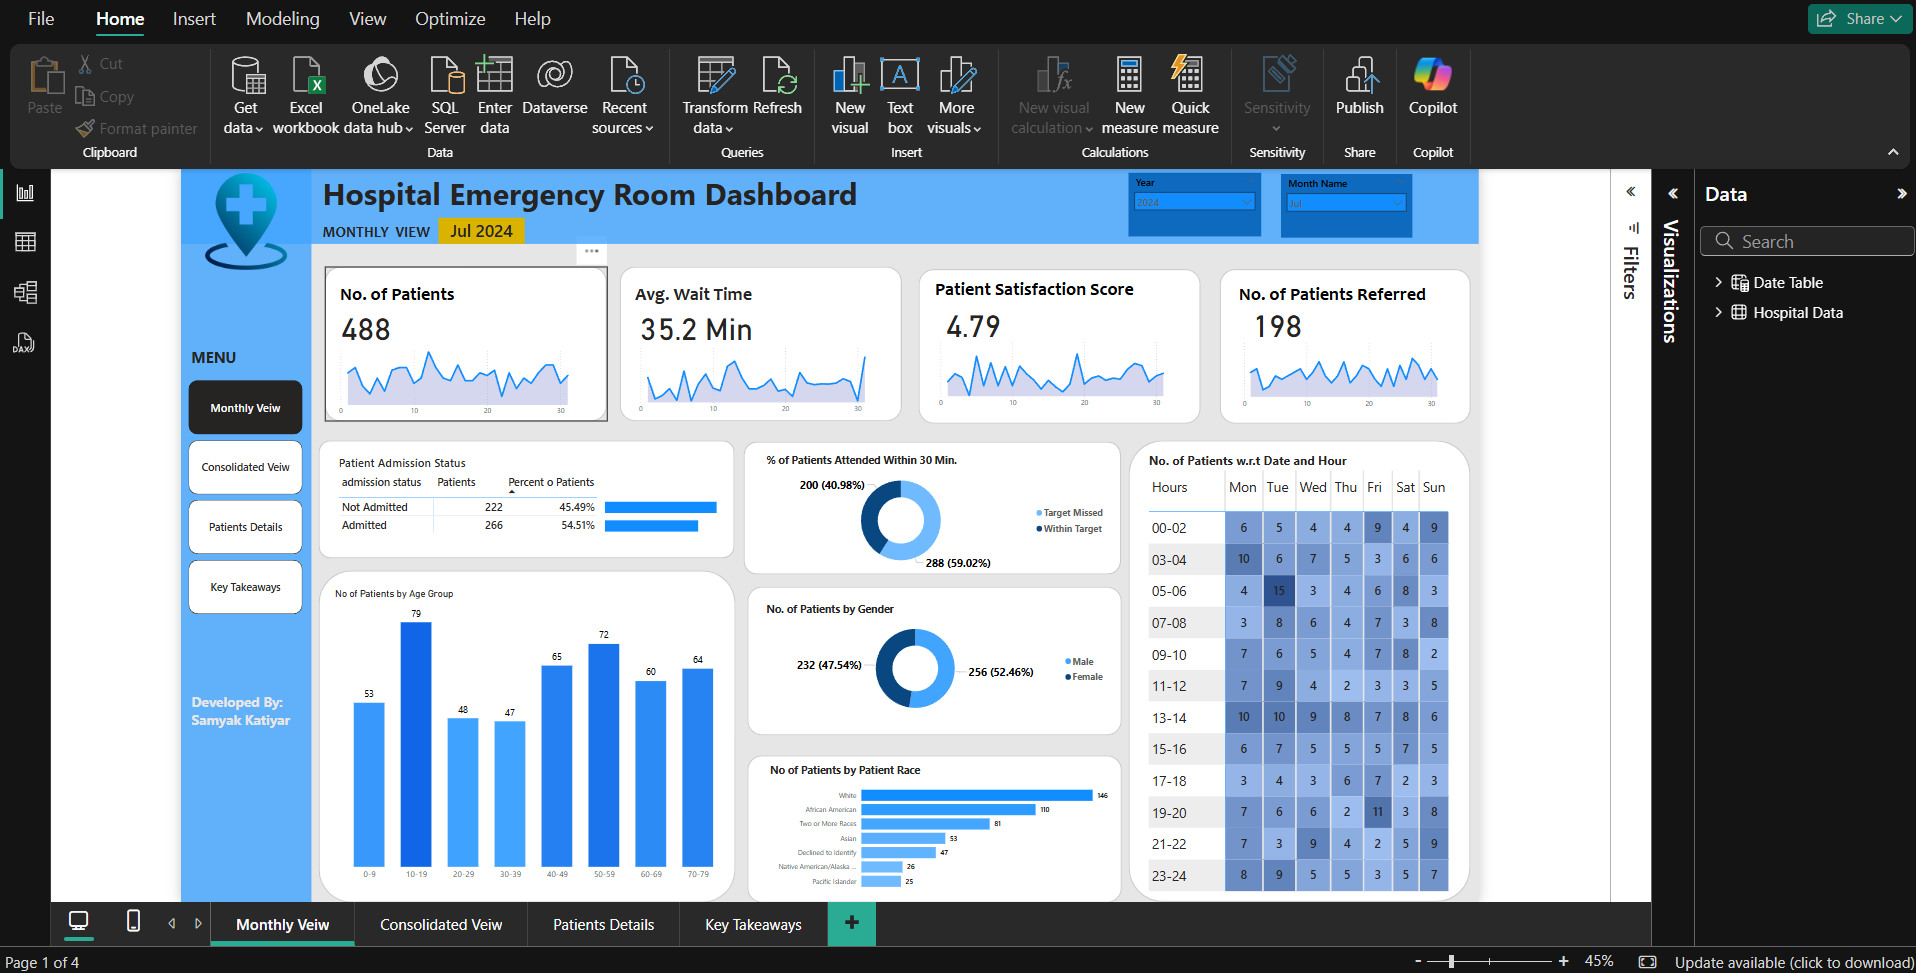

This screenshot's page, from the dashboard's own definition file:
{"tool":"powerbi","page":{"name":"Monthly Veiw","canvas":[2300,1300],"ordinal":0},"visuals":[{"type":"shape","box":[0,0,231.4,1300],"z":0},{"type":"shape","box":[777.6,172.8,500.7,274.7],"z":1000},{"type":"shape","box":[254.8,172.8,500.7,274.7],"z":2000},{"type":"shape","box":[0,0,2300,132.9],"z":3000},{"type":"textbox","box":[245.9,2.2,1001.4,88.6],"z":4000},{"type":"card","fields":{"Values":["Hospital Data.No of Patients"]},"box":[254.8,239.3,146.2,77.5],"z":5000},{"type":"textbox","box":[245.8,91.7,233.3,52.1],"z":6000},{"type":"slicer","fields":{"Values":["Date Table.Year"]},"box":[1679.3,6.6,234.8,113],"z":7000},{"type":"slicer","fields":{"Values":["Date Table.Month Name"]},"box":[1949.6,8.9,232.6,113],"z":8000},{"type":"textbox","box":[276.9,197.2,228.2,53.2],"z":9000},{"type":"areaChart","fields":{"Category":["Hospital Data.Patient Admission Date.Variation.Date Hierarchy.Day"],"Y":["Hospital Data.No of Patients"]},"box":[268.1,310.2,485.2,137.4],"z":10000},{"type":"card","fields":{"Values":["Min(Date Table.month_name&year)"]},"box":[456.4,86.4,152.9,46.5],"z":11000},{"type":"card","fields":{"Values":["Hospital Data.avg_wait_time"]},"box":[799.8,239.3,228.2,77.5],"z":12000},{"type":"textbox","box":[799.8,197.2,228.2,53.2],"z":13000},{"type":"areaChart","fields":{"Category":["Hospital Data.Patient Admission Date.Variation.Date Hierarchy.Day"],"Y":["Avg(Hospital Data.Patient Waittime)"]},"box":[799.8,305.7,478.5,137.4],"z":14000},{"type":"shape","box":[1307.1,177.2,500.7,274.7],"z":15000},{"type":"card","fields":{"Values":["Avg(Hospital Data.Patient Satisfaction Score)"]},"box":[1331.5,232.6,146.2,77.5],"z":16000},{"type":"textbox","box":[1331.5,188.3,392.1,90.8],"z":17000},{"type":"areaChart","fields":{"Category":["Hospital Data.Patient Admission Date.Variation.Date Hierarchy.Day"],"Y":["Avg(Hospital Data.Patient Satisfaction Score)"]},"box":[1331.5,294.7,476.3,137.4],"z":18000},{"type":"shape","box":[1841,177.2,445.3,274.7],"z":19000},{"type":"card","fields":{"Values":["Hospital Data.Patient Referred"]},"box":[1869.8,232.6,146.2,77.5],"z":20000},{"type":"textbox","box":[1869.8,197.2,378.8,51],"z":21000},{"type":"areaChart","fields":{"Category":["Hospital Data.Patient Admission Date.Variation.Date Hierarchy.Day"],"Y":["Hospital Data.Patient Referred"]},"box":[1869.8,296.9,416.5,137.4],"z":22000},{"type":"shape","box":[244.7,710.5,739.5,589.5],"z":23000},{"type":"shape","box":[243.8,481.2,737.5,209.4],"z":24000},{"type":"pivotTable","title":"Patient Admission Status","fields":{"Rows":["Hospital Data.admission status"],"Values":["Hospital Data.No of Patients","CountNonNull(Hospital Data.Patient Admission Flag)"]},"box":[275,508.3,525,210.4],"z":25000},{"type":"barChart","fields":{"Category":["Hospital Data.admission status"],"Y":["Hospital Data.No of Patients"]},"box":[745.8,560.4,233.3,106.2],"z":26000},{"type":"columnChart","fields":{"Category":["Hospital Data.Age Group"],"Y":["Hospital Data.No of Patients"]},"box":[268.4,742.1,715.8,528.9],"z":27000},{"type":"shape","title":"% of patients attended Within 30 Min.","box":[997.4,482.1,669.2,235.9],"z":28000},{"type":"donutChart","title":"% of Patients Attended Within 30 Min.","fields":{"Category":["Hospital Data.WaitTime Status"],"Y":["Hospital Data.No of Patients"]},"box":[1033.3,502.6,615.4,215.4],"z":29000},{"type":"shape","title":"% of patients attended Within 30 Min.","box":[1002.6,741,664.1,264.1],"z":30000},{"type":"donutChart","title":"No. of Patients by Gender","fields":{"Y":["Hospital Data.No of Patients"],"Category":["Hospital Data.Patient Gender"]},"box":[1033.3,766.7,615.4,212.8],"z":31000},{"type":"shape","title":"% of patients attended Within 30 Min.","box":[1002.6,1038.5,664.1,261.5],"z":32000},{"type":"clusteredBarChart","fields":{"Y":["Hospital Data.No of Patients"],"Category":["Hospital Data.Patient Race"]},"box":[1038.5,1051.3,615.4,235.9],"z":33000},{"type":"shape","title":"% of patients attended Within 30 Min.","box":[1679.6,481.6,606.1,818.4],"z":34000},{"type":"pivotTable","title":"No. of Patients w.r.t Date and Hour","fields":{"Rows":["Hospital Data.waitime Interval"],"Columns":["Date Table.Day Name"],"Values":["Hospital Data.No of Patients"]},"box":[1709.8,501.6,577,785.2],"z":35000},{"type":"image","box":[0,2.9,231.4,181.4],"z":36000},{"type":"pageNavigator","box":[14.3,373.5,202,416.3],"z":37000},{"type":"textbox","box":[14.3,310.2,159.2,63.3],"z":38000},{"type":"textbox","box":[13.3,923.8,217.1,95.3],"z":39000}]}

Visuals, with their boxes on the page's 2300x1300 design canvas (x1, y1, x2, y2). These are canvas units, not pixel positions in the 1916x973 screenshot, which may show the page scaled, cropped or inside an application window:
shape: 0, 0, 231, 1300
shape: 778, 173, 1278, 448
shape: 255, 173, 756, 448
shape: 0, 0, 2300, 133
textbox: 246, 2, 1247, 91
card - Hospital Data.No of Patients: 255, 239, 401, 317
textbox: 246, 92, 479, 144
slicer - Date Table.Year: 1679, 7, 1914, 120
slicer - Date Table.Month Name: 1950, 9, 2182, 122
textbox: 277, 197, 505, 250
areaChart - Hospital Data.Patient Admission Date.Variation.Date Hierarchy.Day x Hospital Data.No of Patients: 268, 310, 753, 448
card - Min(Date Table.month_name&year): 456, 86, 609, 133
card - Hospital Data.avg_wait_time: 800, 239, 1028, 317
textbox: 800, 197, 1028, 250
areaChart - Hospital Data.Patient Admission Date.Variation.Date Hierarchy.Day x Avg(Hospital Data.Patient Waittime): 800, 306, 1278, 443
shape: 1307, 177, 1808, 452
card - Avg(Hospital Data.Patient Satisfaction Score): 1332, 233, 1478, 310
textbox: 1332, 188, 1724, 279
areaChart - Hospital Data.Patient Admission Date.Variation.Date Hierarchy.Day x Avg(Hospital Data.Patient Satisfaction Score): 1332, 295, 1808, 432
shape: 1841, 177, 2286, 452
card - Hospital Data.Patient Referred: 1870, 233, 2016, 310
textbox: 1870, 197, 2249, 248
areaChart - Hospital Data.Patient Admission Date.Variation.Date Hierarchy.Day x Hospital Data.Patient Referred: 1870, 297, 2286, 434
shape: 245, 710, 984, 1300
shape: 244, 481, 981, 691
"Patient Admission Status" pivotTable: 275, 508, 800, 719
barChart - Hospital Data.admission status x Hospital Data.No of Patients: 746, 560, 979, 667
columnChart - Hospital Data.Age Group x Hospital Data.No of Patients: 268, 742, 984, 1271
"% of patients attended Within 30 Min." shape: 997, 482, 1667, 718
"% of Patients Attended Within 30 Min." donutChart: 1033, 503, 1649, 718
"% of patients attended Within 30 Min." shape: 1003, 741, 1667, 1005
"No. of Patients by Gender" donutChart: 1033, 767, 1649, 980
"% of patients attended Within 30 Min." shape: 1003, 1038, 1667, 1300
clusteredBarChart - Hospital Data.No of Patients x Hospital Data.Patient Race: 1038, 1051, 1654, 1287
"% of patients attended Within 30 Min." shape: 1680, 482, 2286, 1300
"No. of Patients w.r.t Date and Hour" pivotTable: 1710, 502, 2287, 1287
image: 0, 3, 231, 184
pageNavigator: 14, 374, 216, 790
textbox: 14, 310, 174, 374
textbox: 13, 924, 230, 1019
